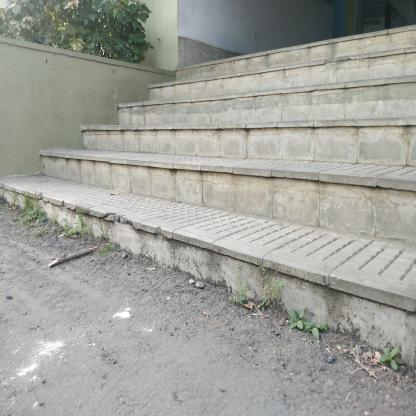stairs: (104, 100, 401, 347)
